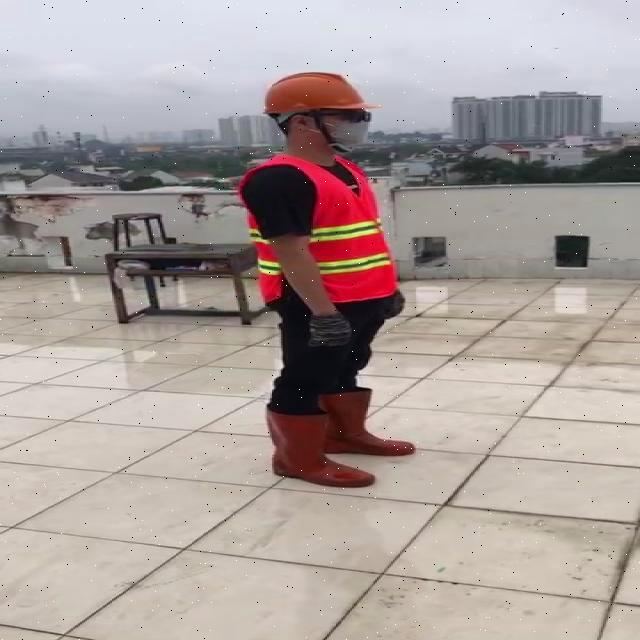Hard_hat: (253, 68, 382, 128)
Vest: (302, 149, 399, 304)
